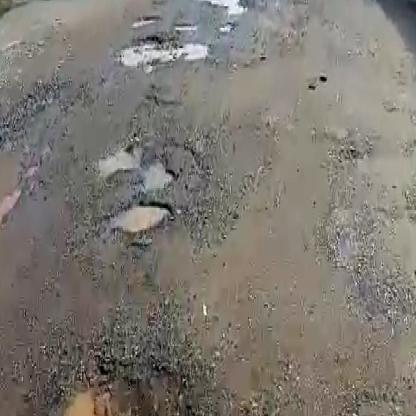pothole: (42, 375, 164, 416), (102, 141, 176, 192), (105, 196, 175, 239), (114, 32, 202, 66), (193, 0, 248, 12), (131, 12, 161, 25)
